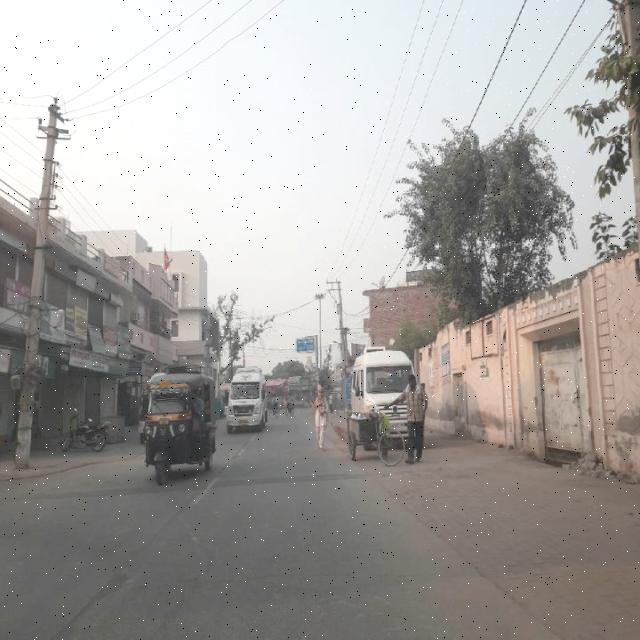D01: (38, 505, 204, 636)
